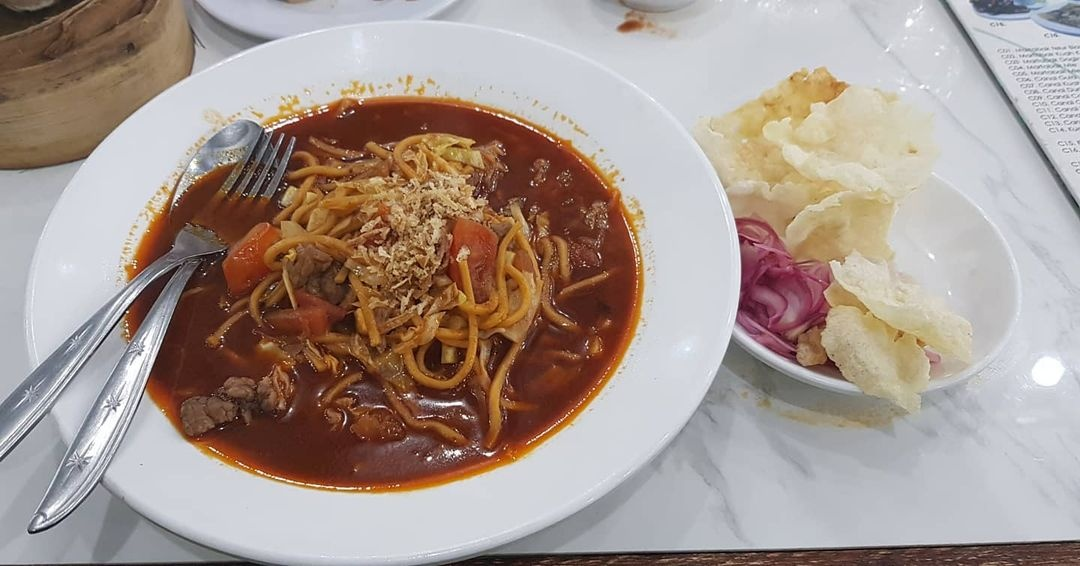mie_aceh: (208, 132, 614, 454)
